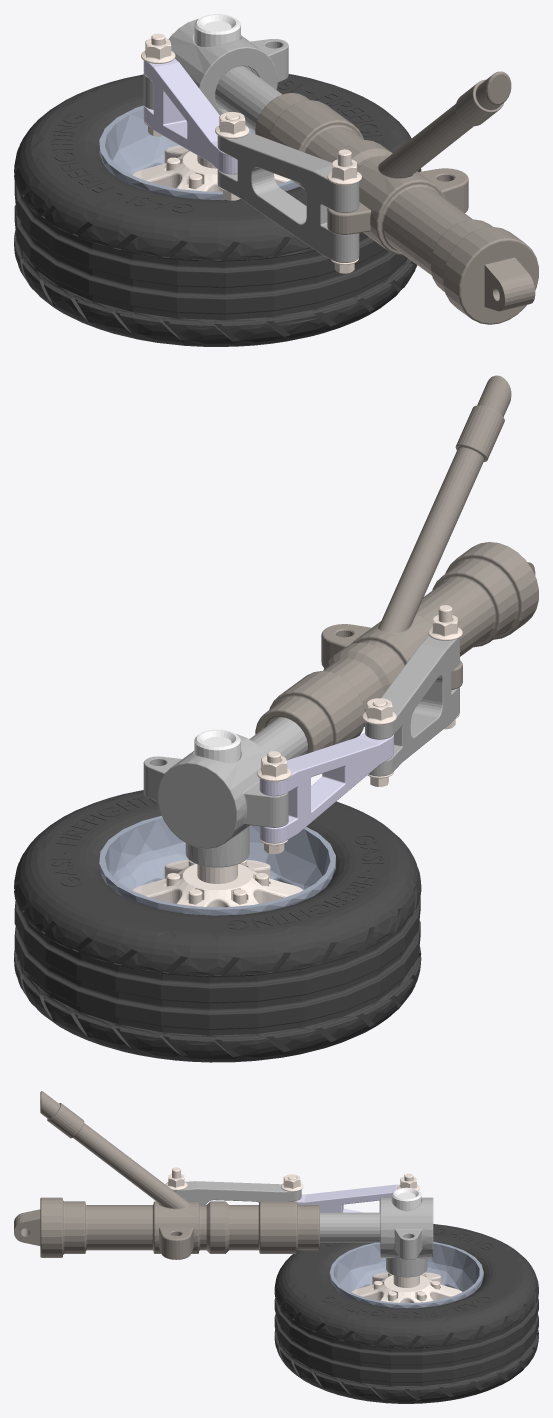
The model's file is right_main_gear.glb.
3 views of the same model, one above another, from view 1: azimuth 30°, elevation 25°; view 2: azimuth 150°, elevation 25°; view 3: azimuth 270°, elevation 25° (orthographic). The views are drawn at different scales.
Parts seen in each view (by area): view 1: NAUO57_8, NAUO57_22, NAUO57_18, NAUO57_17, NAUO57_20, NAUO57_9, NAUO57_21, NAUO57_10, NAUO57_19, NAUO57_15, NAUO57_14, NAUO57_16 (+1 smaller); view 2: NAUO57_8, NAUO57_22, NAUO57_20, NAUO57_9, NAUO57_18, NAUO57_17, NAUO57_10, NAUO57_21, NAUO57_19; view 3: NAUO57_8, NAUO57_22, NAUO57_9, NAUO57_20, NAUO57_18, NAUO57_10, NAUO57_21, NAUO57_17, NAUO57_19.
Boxes of the visible parts, left/top/right/bottom form: NAUO57_8: left=14, top=74, right=421, bottom=346; NAUO57_22: left=255, top=71, right=538, bottom=324; NAUO57_18: left=217, top=132, right=359, bottom=262; NAUO57_17: left=143, top=58, right=237, bottom=174; NAUO57_20: left=143, top=18, right=288, bottom=128; NAUO57_9: left=99, top=105, right=299, bottom=200; NAUO57_21: left=215, top=66, right=282, bottom=131; NAUO57_10: left=132, top=145, right=290, bottom=191; NAUO57_19: left=194, top=14, right=240, bottom=46; NAUO57_15: left=215, top=112, right=249, bottom=138; NAUO57_14: left=141, top=38, right=175, bottom=63; NAUO57_16: left=327, top=159, right=361, bottom=185; NAUO57_8: left=14, top=790, right=421, bottom=1062; NAUO57_22: left=255, top=375, right=538, bottom=753; NAUO57_20: left=143, top=734, right=288, bottom=867; NAUO57_9: left=99, top=815, right=335, bottom=915; NAUO57_18: left=365, top=636, right=459, bottom=776; NAUO57_17: left=259, top=732, right=393, bottom=843; NAUO57_10: left=131, top=860, right=302, bottom=907; NAUO57_21: left=249, top=717, right=307, bottom=760; NAUO57_19: left=194, top=729, right=240, bottom=762; NAUO57_8: left=274, top=1224, right=538, bottom=1403; NAUO57_22: left=14, top=1091, right=319, bottom=1259; NAUO57_9: left=329, top=1241, right=483, bottom=1308; NAUO57_20: left=380, top=1197, right=433, bottom=1277; NAUO57_18: left=173, top=1181, right=301, bottom=1204; NAUO57_10: left=351, top=1272, right=461, bottom=1303; NAUO57_21: left=320, top=1212, right=380, bottom=1242; NAUO57_17: left=294, top=1184, right=399, bottom=1212; NAUO57_19: left=391, top=1187, right=421, bottom=1211.
Bounding box in the file's own units: 0.35 × 0.3841 × 0.6949.
